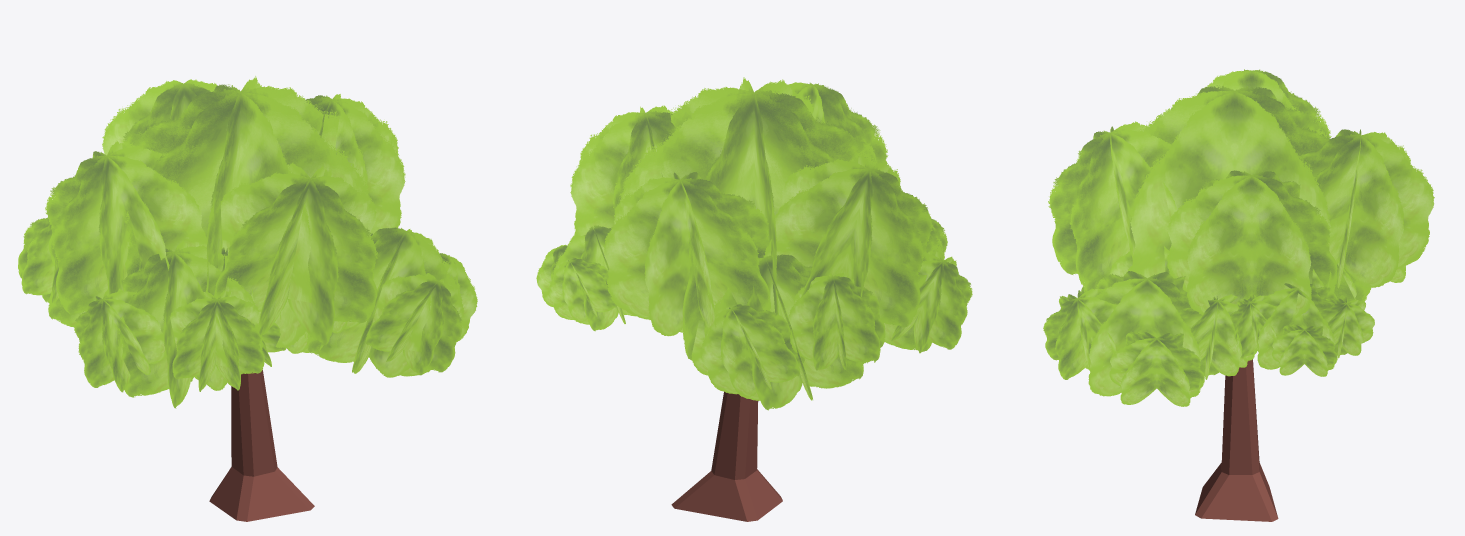
Rendered from tree.fbx.
The picture shows the model from 3 angles, left to right: view 1: azimuth 30°, elevation 25°; view 2: azimuth 150°, elevation 25°; view 3: azimuth 270°, elevation 25°; orthographic projection. The views are drawn at different scales.
Visible parts, largest first — view 1: treeLeaves, treeTrunk; view 2: treeLeaves, treeTrunk; view 3: treeLeaves, treeTrunk.
Boxes of the visible parts, bbox=[...] form: treeLeaves: bbox=[18, 76, 477, 408]; treeTrunk: bbox=[209, 370, 314, 521]; treeLeaves: bbox=[536, 77, 972, 410]; treeTrunk: bbox=[671, 391, 782, 521]; treeLeaves: bbox=[1043, 69, 1434, 406]; treeTrunk: bbox=[1195, 359, 1278, 521].
Size of the model in its own units: 2142 by 2124 by 1982.
